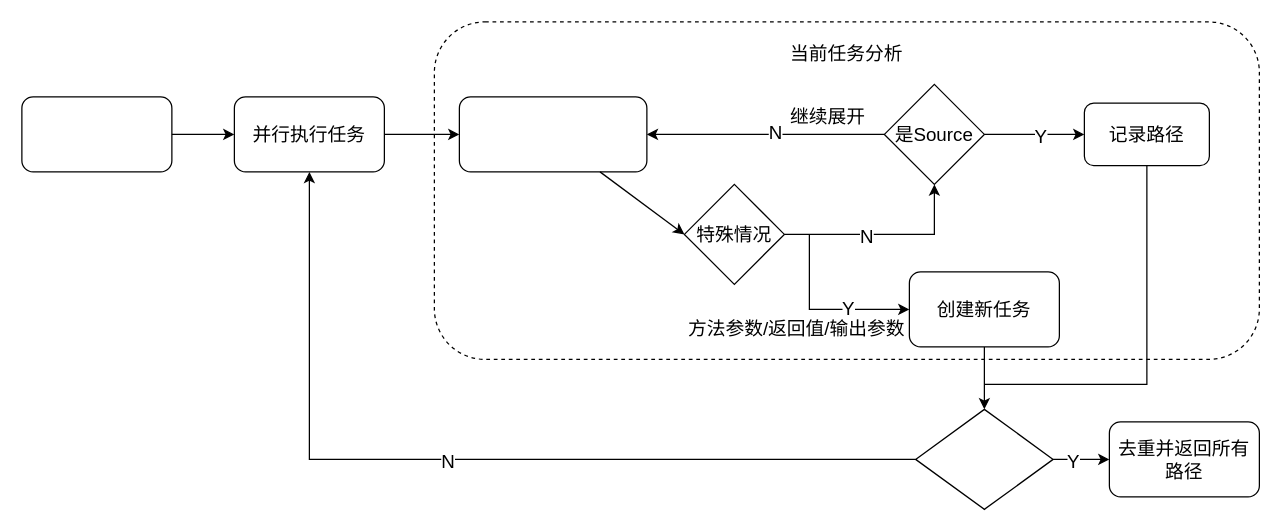
The diagram is 1281 pixels wide and 531 high, and some of its shapes have lost their labels. Here are the shapes that lost their labels. From the top down, the centre of each, then its label:
At (x=96, y=134): "为每个Sink创建初始任务".
At (x=552, y=134): "沿REACHING_DEF边后向展开".
At (x=983, y=458): "完成所有任务".
